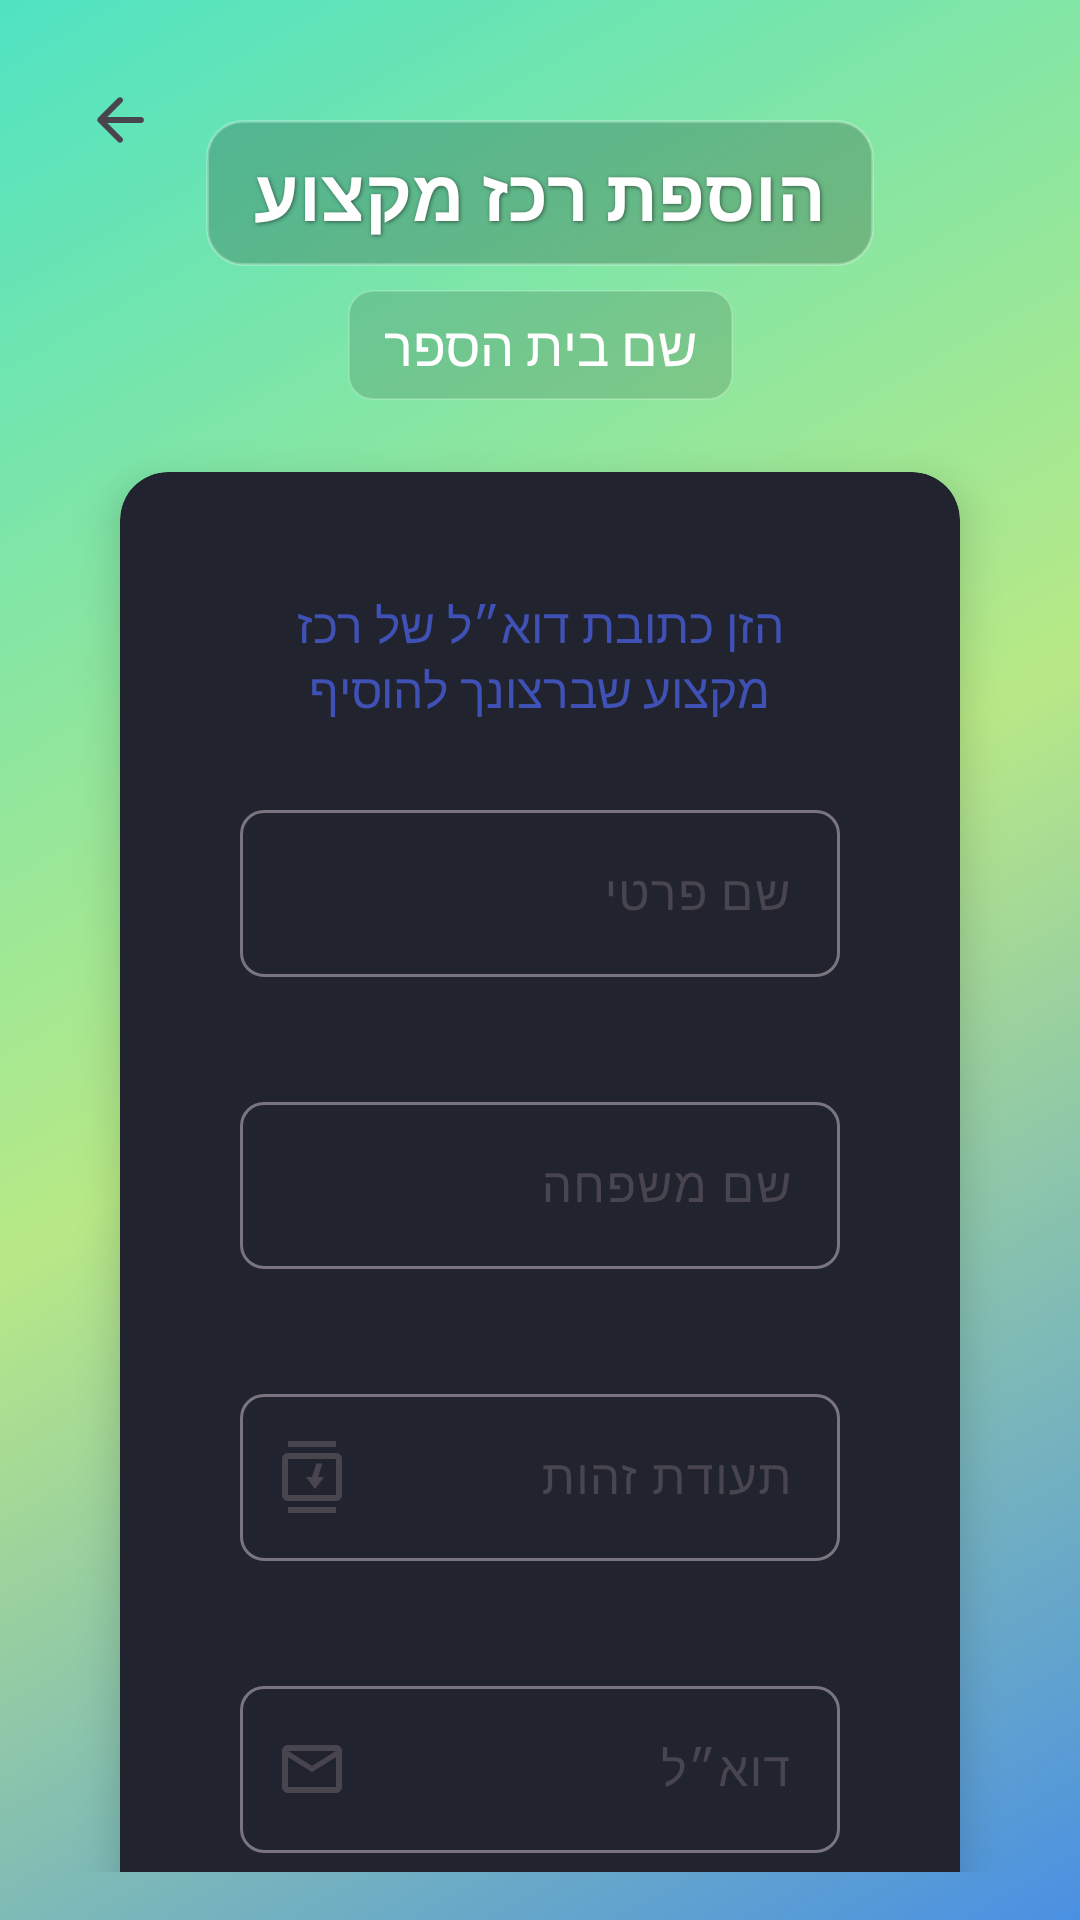

Icons on this 1080 x 1920 Android screen, each with its box as [x1,y1,x2,y2]:
חזור: [97,97,144,143]
